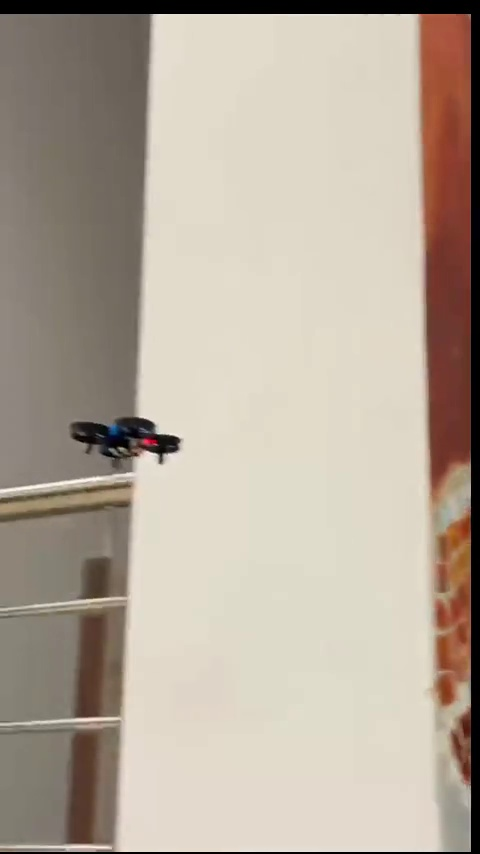drone: (69, 412, 184, 470)
